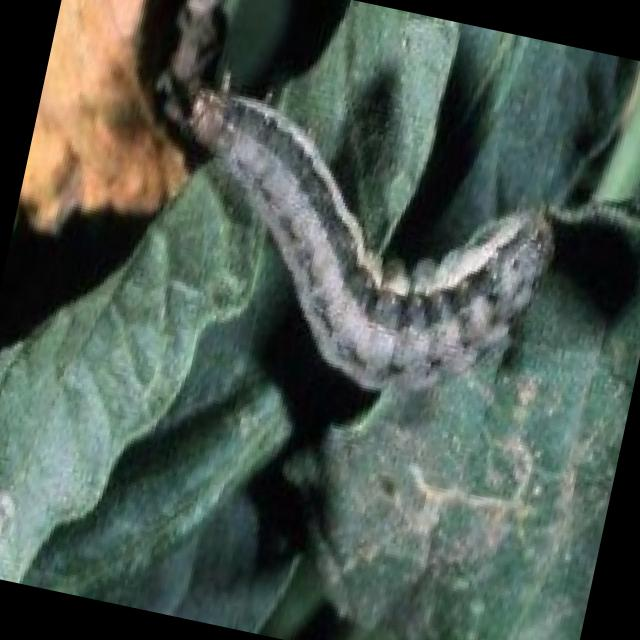armyworm: (123, 72, 584, 434)
